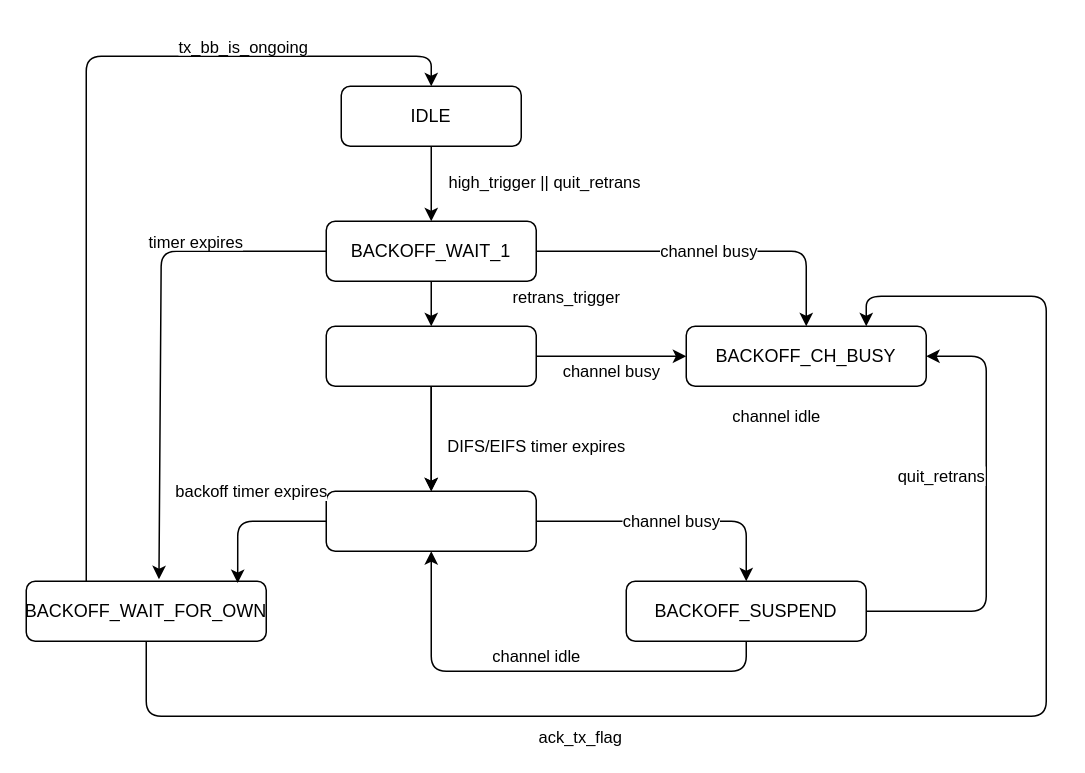
This 1085x773 diagram has some shape labels left out. Each missing label, with the box of its shape:
BACKOFF_RUN: (325, 490, 536, 551)
BACKOFF_WAIT_2: (325, 325, 536, 386)
